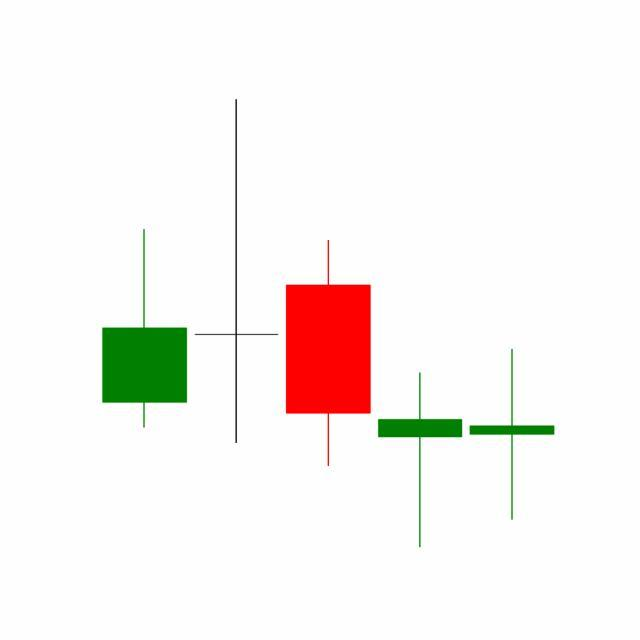Up-Down Gap Side-by-side White Lines: (280, 236, 555, 549)
